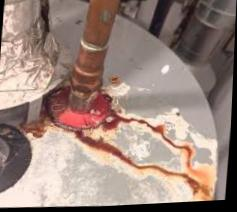leak: (12, 85, 213, 201)
